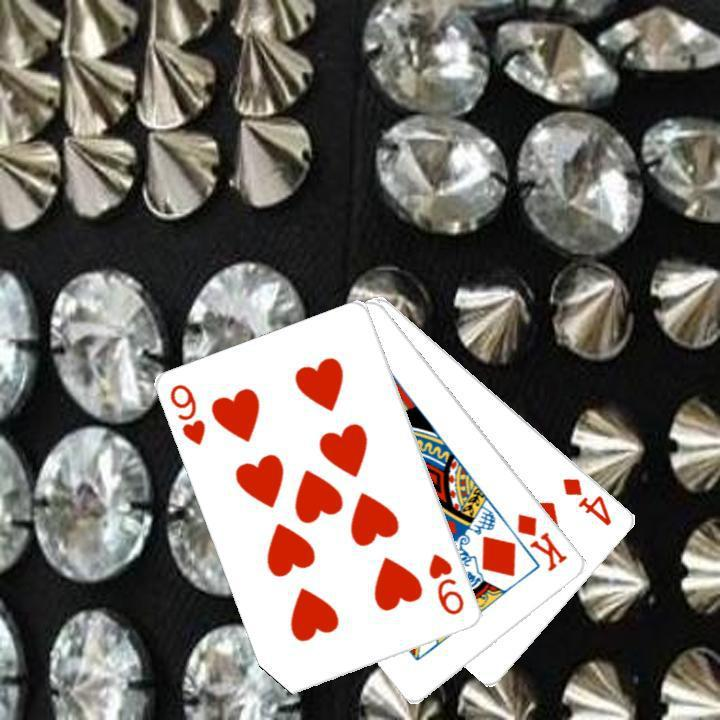4: (558, 473, 615, 528)
9: (424, 549, 467, 618), (166, 379, 208, 448)
K: (513, 508, 570, 574)
